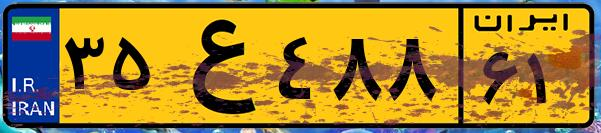1: (525, 38, 570, 115)
3: (57, 26, 110, 100)
4: (270, 28, 330, 110)
5: (110, 28, 158, 98)
6: (475, 38, 525, 113)
8: (385, 28, 445, 110), (330, 28, 385, 110)
ع: (158, 12, 270, 120)
